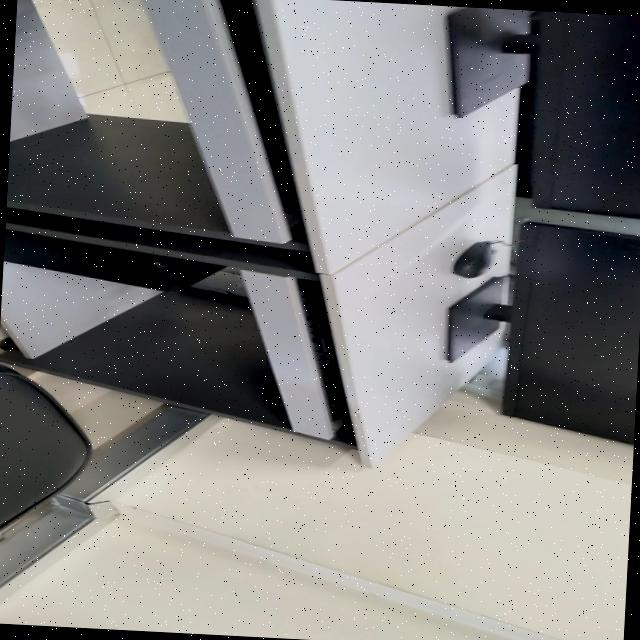Chair: (0, 365, 91, 527), (514, 81, 534, 198)
Cpu: (3, 230, 222, 291)
Keyboard: (220, 0, 299, 215), (296, 279, 346, 420)
Monitor: (445, 222, 640, 445), (447, 7, 640, 217)
Mouse: (453, 241, 502, 278)
